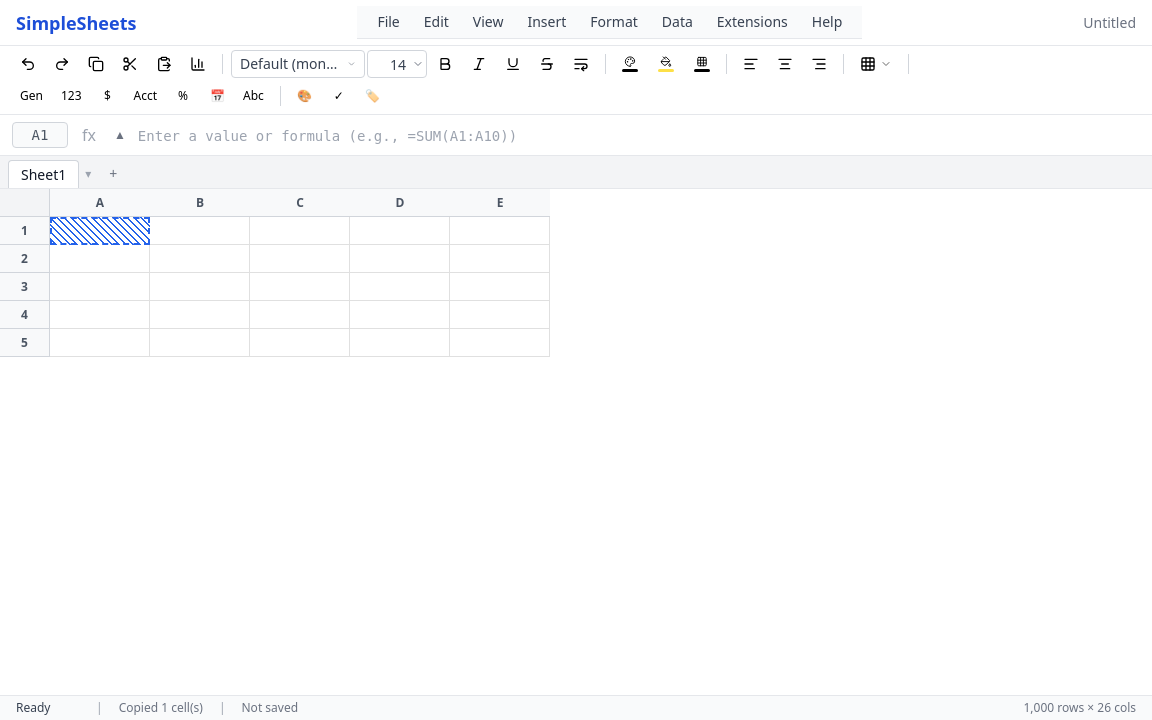
Test: App - Paste Special › Ctrl+Shift+V keyboard shortcut opens Paste Special
Note: Select a cell
Press the mouse on the 1st element with class "grid-cell" at x=100, y=231, box [50,217,150,245]
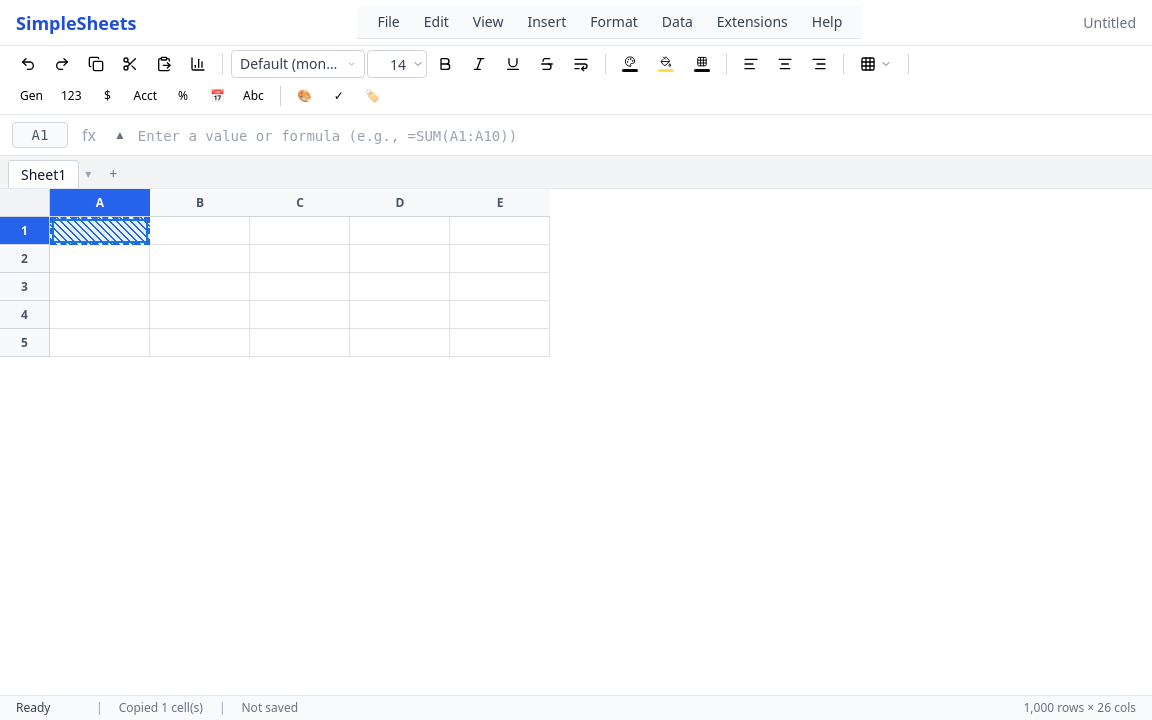
Note: Use Ctrl+Shift+V keyboard shortcut
Press V
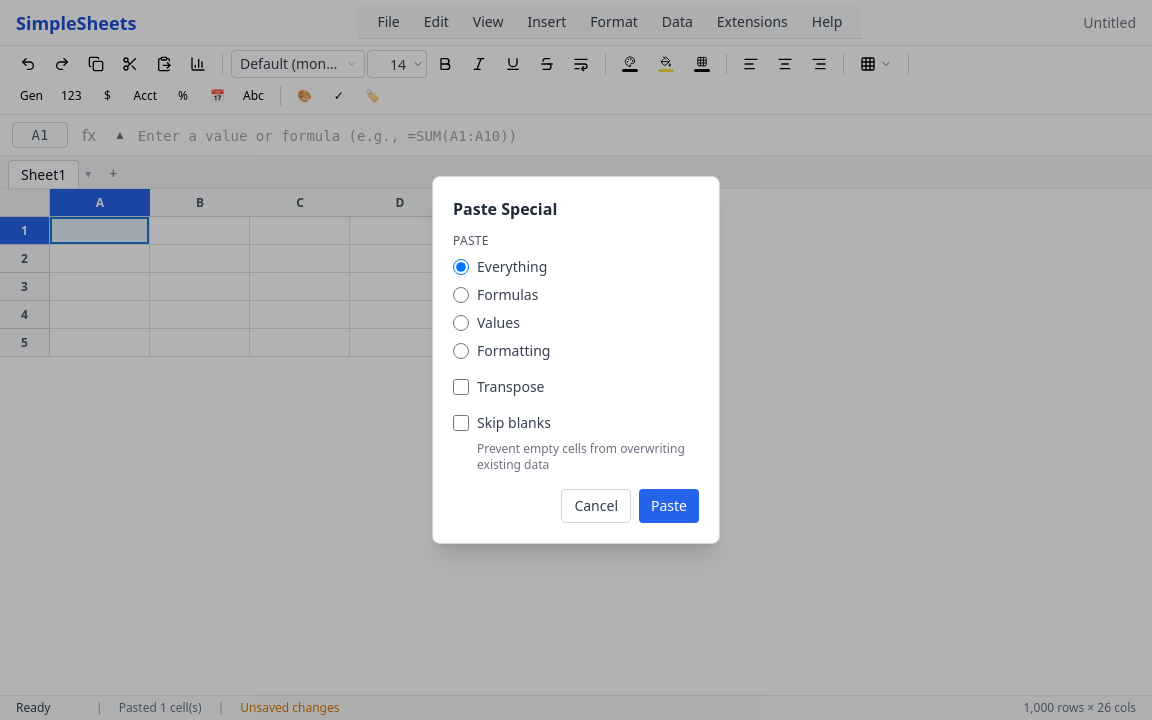
Now the heading "Paste Special" is shown, box [453,198,557,220]
